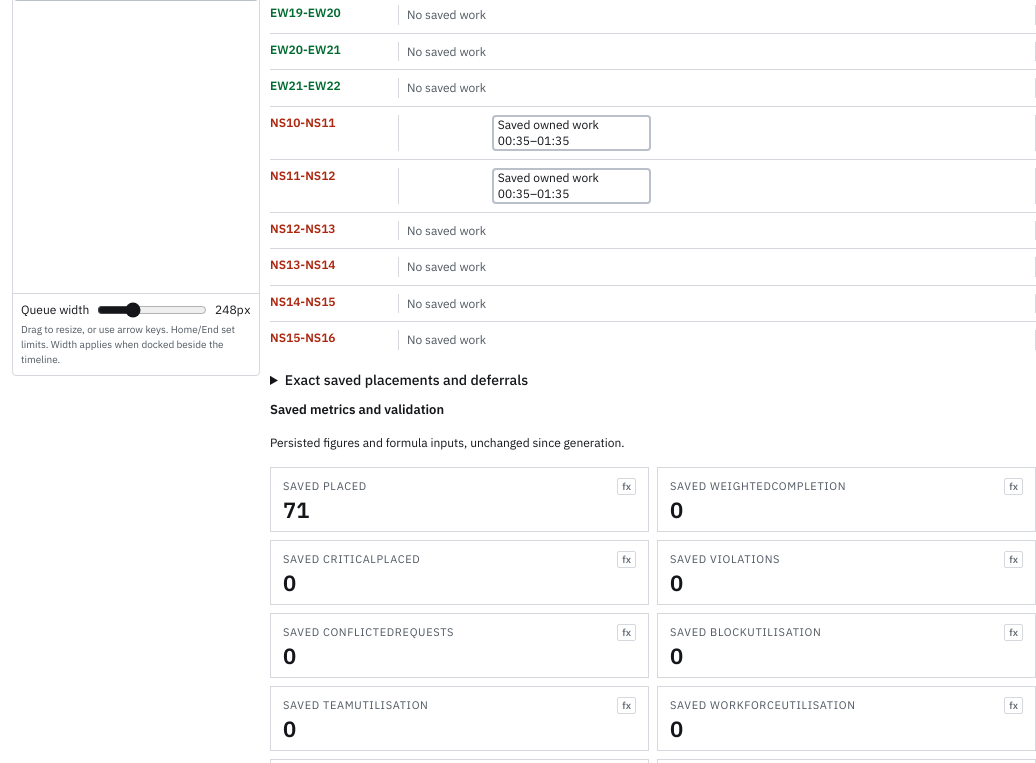
Test case: saved snapshot visual review › renders every atomic block and the owned request from saved facts, with exact times and persisted figures
(page scrolled)
Expected: the text "EW19-EW20" is shown, [270,5,341,20]
Expected: the text "EW20-EW21" is shown, [270,42,341,56]
What coordinates should you click on to do the following:
click the heading "Exact saved placements and deferrals"
I would click on:
 (406, 380)
Its box is [285,370,528,388].
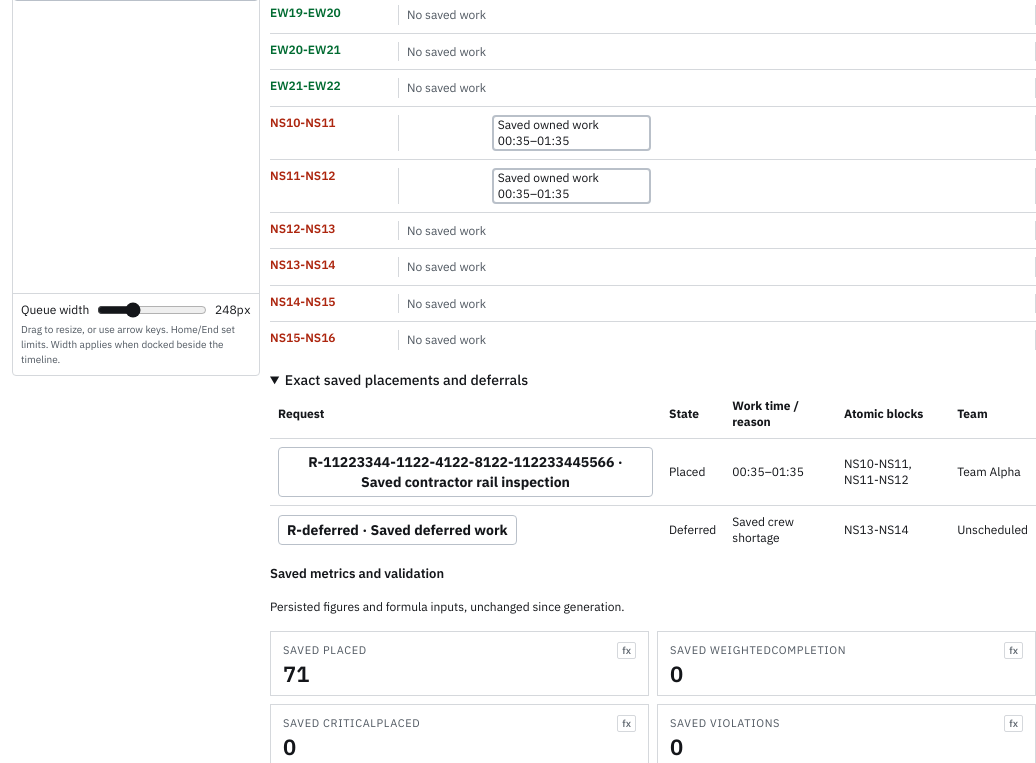
Expected: the table named "Saved placements and deferrals" shows "00:35–01:35", [732,464,804,478]
What coordinates should you click on to do the following:
click the button with aria-label "Show how Saved placed is calculated"
I would click on:
 (627, 650)
Its box is [617,642,636,659].
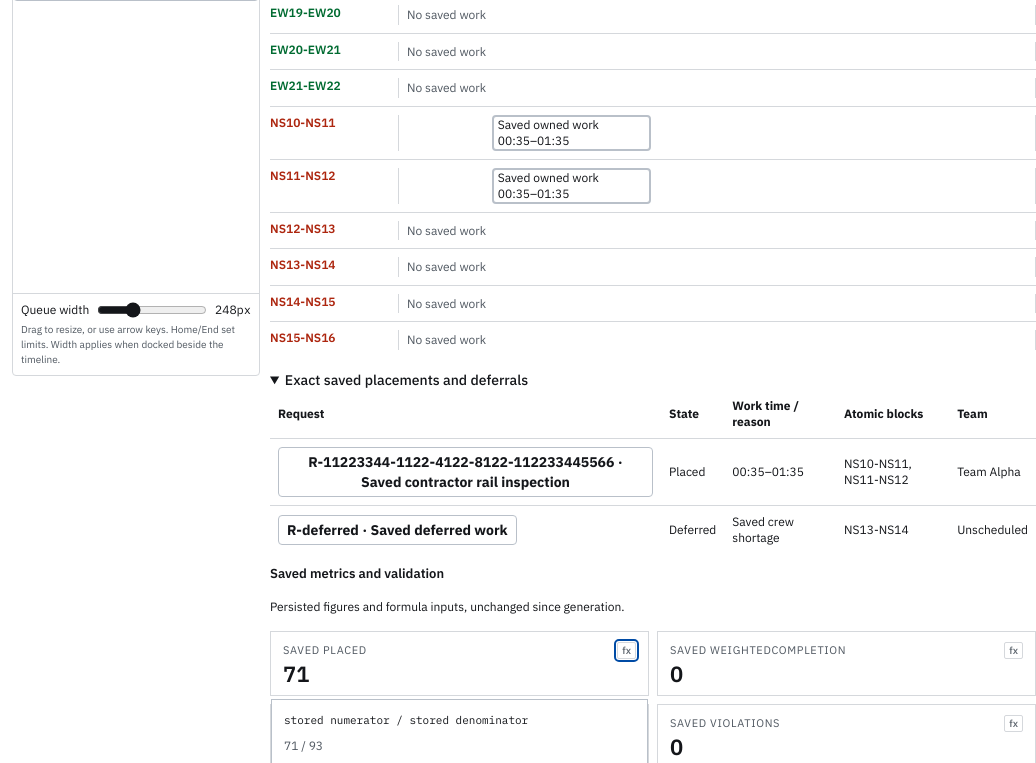
Expected: the text "stored numerator / stored denominator" is shown, [284,713,528,727]
Expected: the text "71 / 93" is shown, [284,738,323,753]
